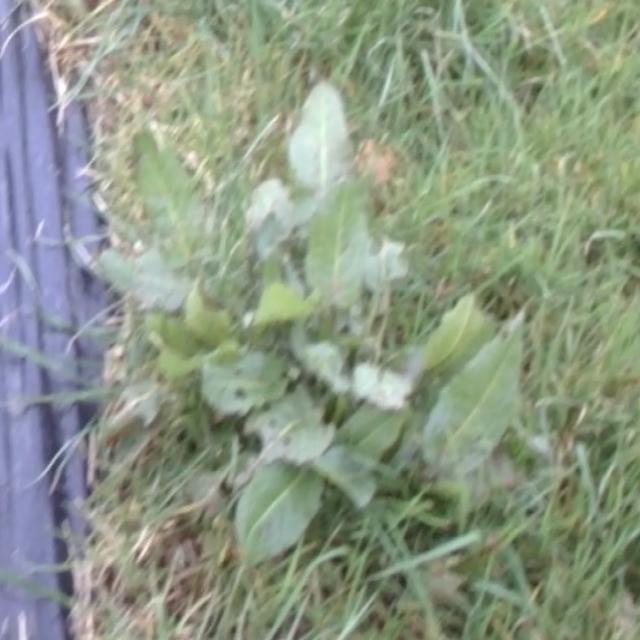organic waste: (47, 70, 574, 562), (182, 246, 564, 574), (80, 85, 378, 357)
